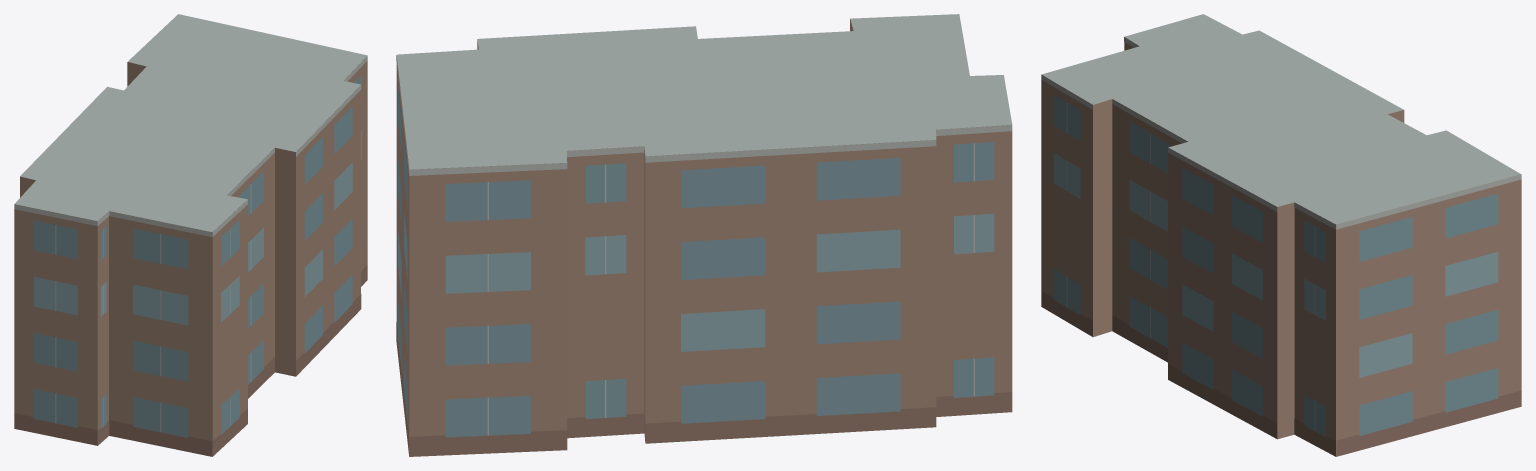
File: survey-upis-32631158.glb
3 renders of one model, left to right at view 1: azimuth 30°, elevation 25°; view 2: azimuth 150°, elevation 25°; view 3: azimuth 270°, elevation 25°, orthographic. The views are drawn at different scales.
Parts seen in each view (by area): view 1: survey-upis-32631158.tmp; view 2: survey-upis-32631158.tmp; view 3: survey-upis-32631158.tmp.
Boxes of the visible parts, x1,y1,x2,y2 form: survey-upis-32631158.tmp: [14, 14, 367, 456]; survey-upis-32631158.tmp: [396, 14, 1012, 456]; survey-upis-32631158.tmp: [1041, 14, 1521, 456].
Size of the model in its own units: 21.4 by 11 by 20.61.
